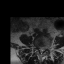CCS_normal: (40, 47, 42, 55)
LFS_severe_stenosis: (44, 47, 46, 51)
LLS_stenosis: (42, 47, 44, 54)
RFS_severe_stenosis: (37, 46, 38, 51)
RLS_stenosis: (38, 47, 40, 53)
